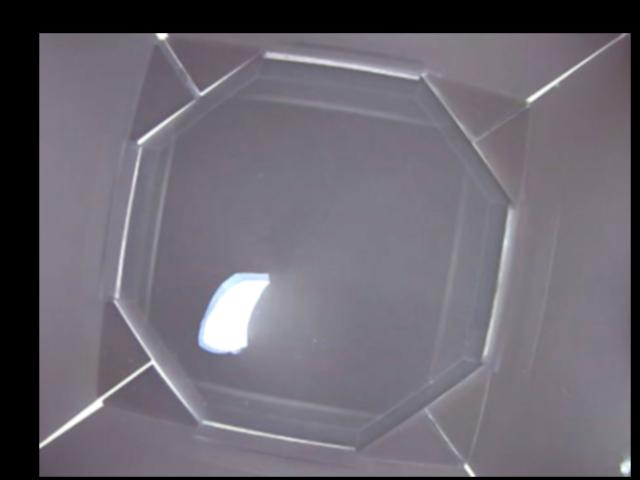China: (192, 267, 271, 353)
